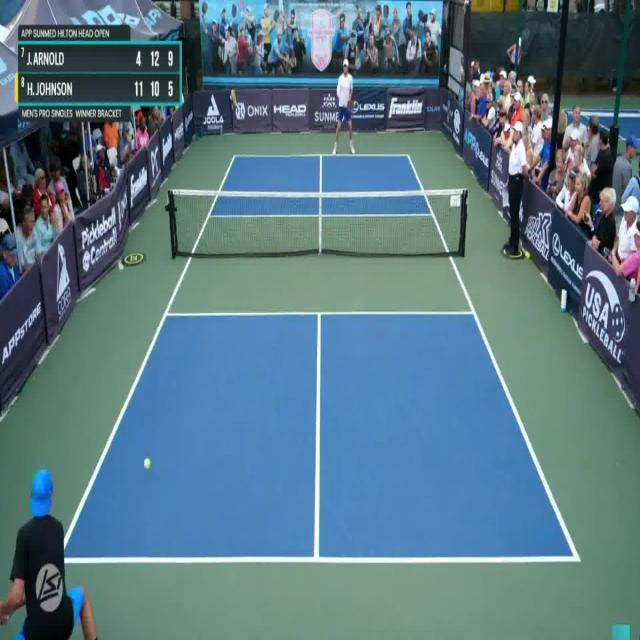Court: (59, 156, 578, 558)
ball: (142, 449, 153, 475)
